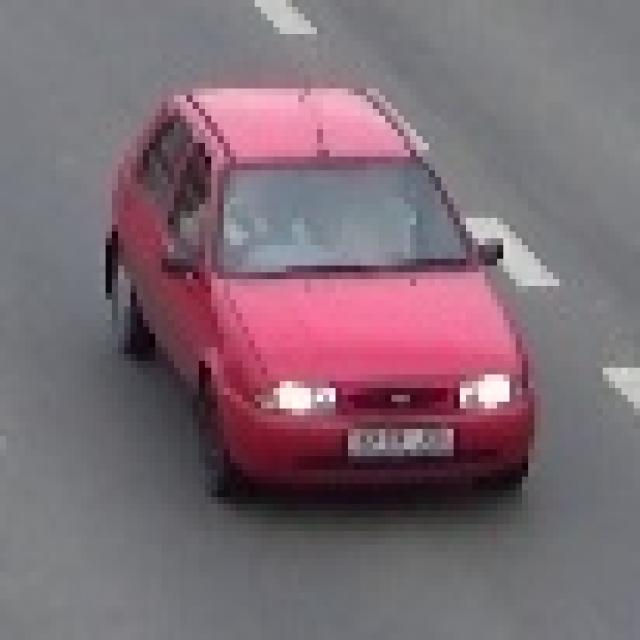red: (111, 87, 543, 504)
